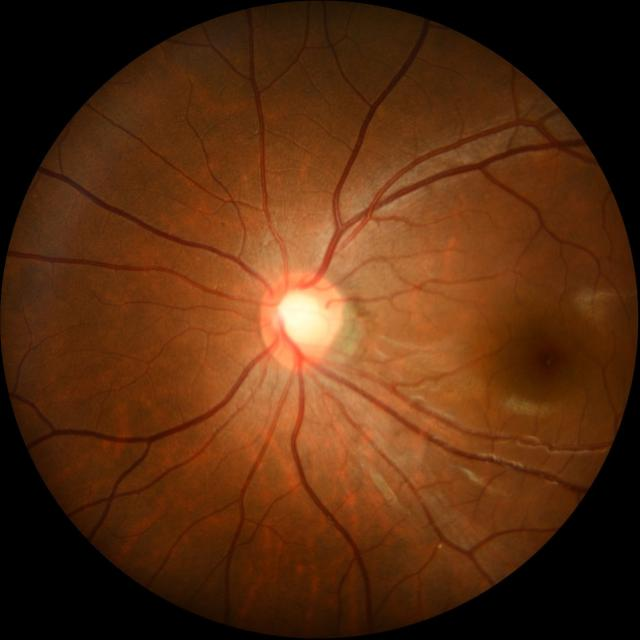OC: (275, 287, 328, 348)
OD: (259, 271, 341, 368)
